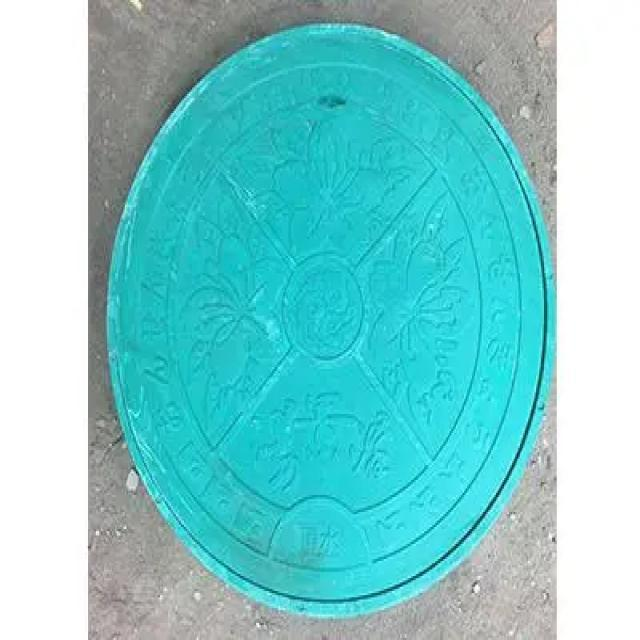manhole: (106, 22, 553, 623)
